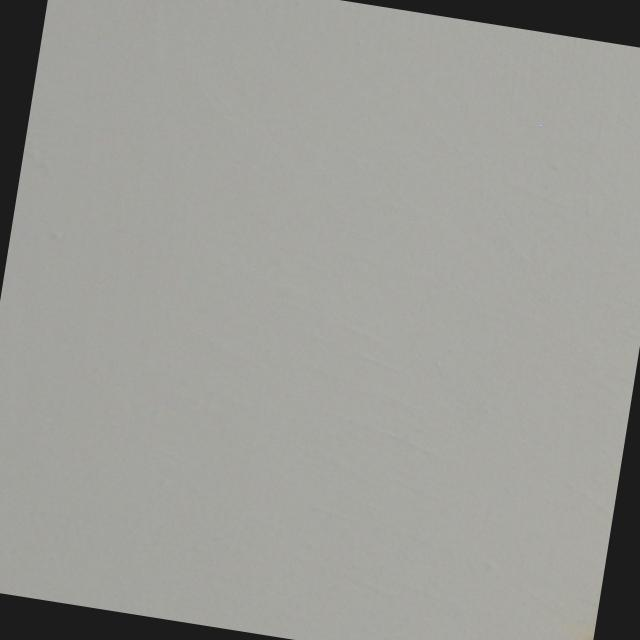dañado: (562, 616, 596, 640)
